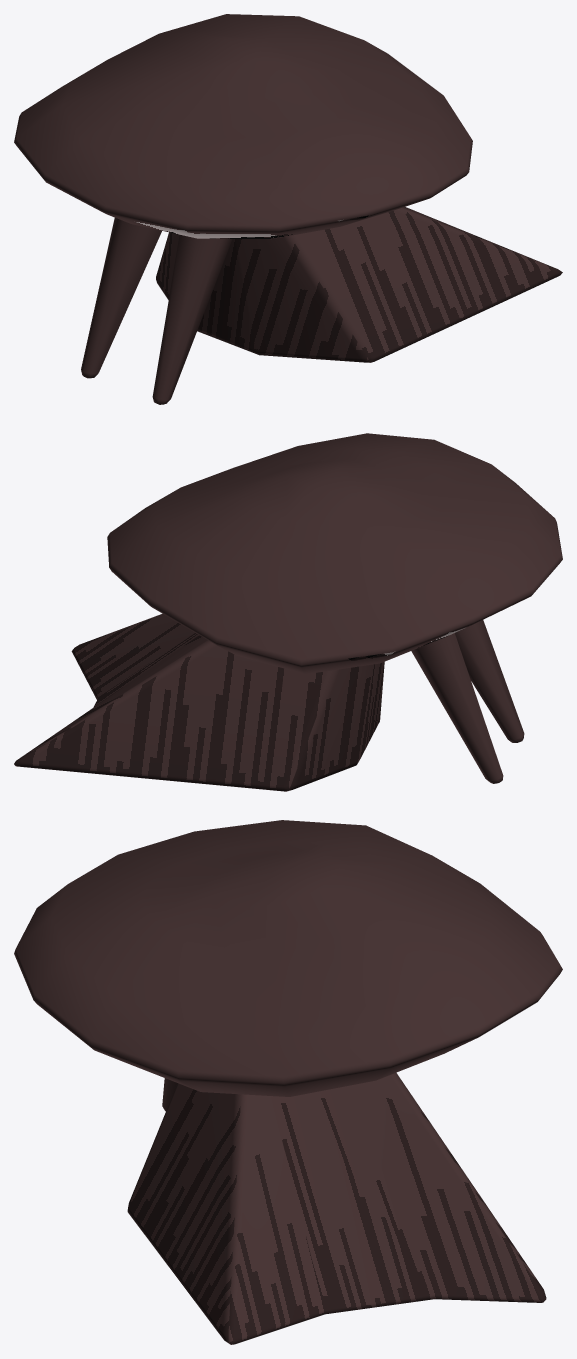
Rendered from smooshman.obj.
The picture shows the model from 3 angles, top to bottom: view 1: azimuth 30°, elevation 25°; view 2: azimuth 150°, elevation 25°; view 3: azimuth 270°, elevation 25°; orthographic projection. The views are drawn at different scales.
Visible parts, largest first — view 1: Sphere; view 2: Sphere; view 3: Sphere.
Boxes of the visible parts, x1,y1,x2,y2 form: Sphere: [14, 14, 562, 404]; Sphere: [14, 433, 562, 791]; Sphere: [14, 820, 562, 1344].
Size of the model in its own units: 2.59 by 1.4 by 2.15.
Materials: 1 (1 with a texture image).
